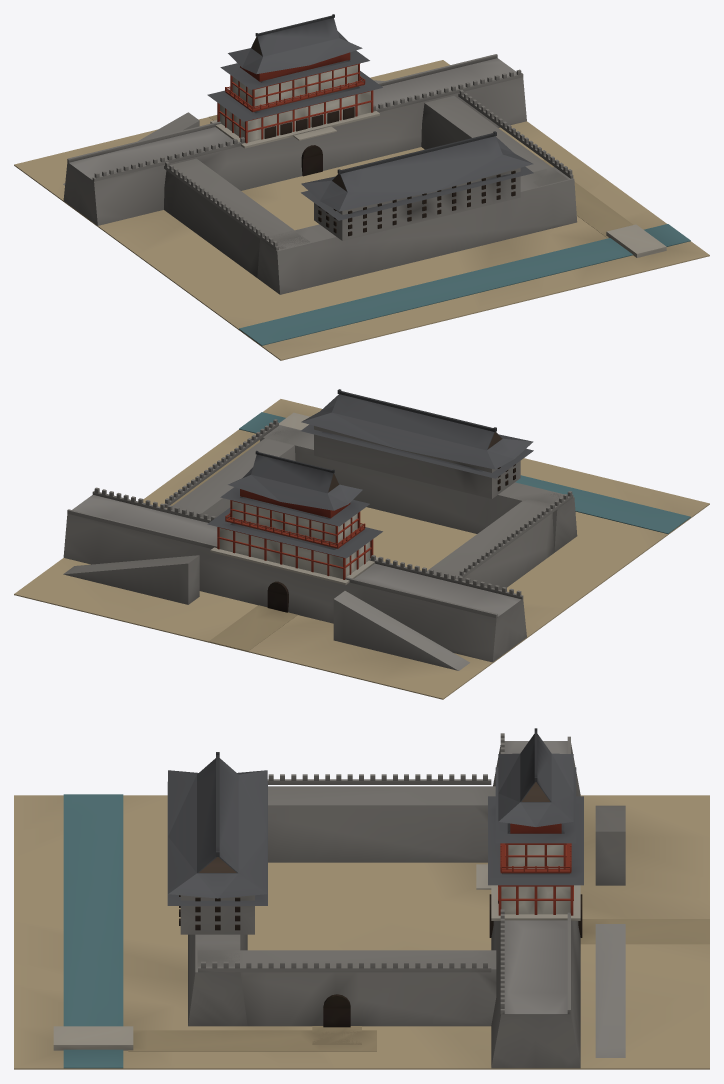
The model's file is ming-south-gate.glb.
3 renders of one model, top to bottom at view 1: azimuth 30°, elevation 25°; view 2: azimuth 150°, elevation 25°; view 3: azimuth 270°, elevation 25°, orthographic. The views are drawn at different scales.
Parts seen in each view (by area): view 1: p0_walls, p2_roofs, p1_halls; view 2: p0_walls, p2_roofs, p1_halls; view 3: p0_walls, p2_roofs, p1_halls.
Boxes of the visible parts, x1,y1,x2,y2 form: p0_walls: [14, 54, 709, 360]; p2_roofs: [207, 14, 533, 220]; p1_halls: [210, 63, 520, 240]; p0_walls: [14, 399, 709, 699]; p2_roofs: [207, 389, 533, 558]; p1_halls: [210, 426, 520, 612]; p0_walls: [14, 733, 709, 1069]; p2_roofs: [167, 728, 583, 905]; p1_halls: [179, 843, 582, 1027].
Bounding box in the file's own units: 130 × 39.96 × 140.
